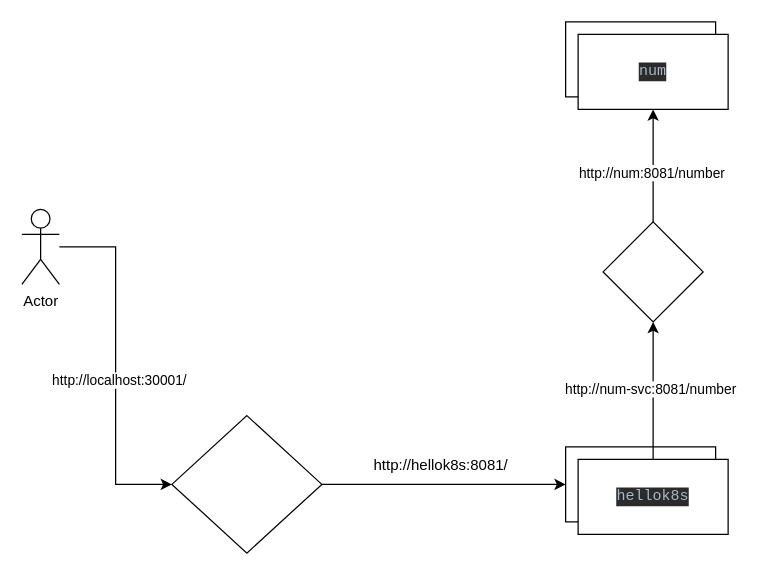
Image size: 758x575. Some labels were removed from this diagram. The shapes that lost their labels are listed below. From the top down, each one's centre as x and y in pixels, then its label:
At point 652,271: "num-svc".
At point 246,483: "hellok8s-svc".
